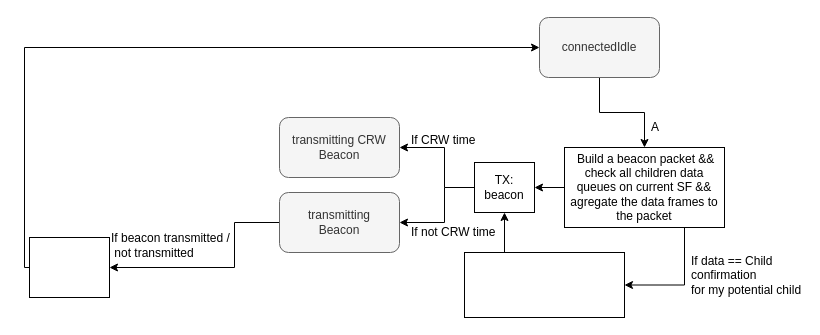
This 820x335 diagram has some shape labels left out. The centre of each missing label's shape, as x and y in pixels:
"Put the node into children's list && append info about its time slot" goes at pixel 544 285.
"QUEUE new beacon time" goes at pixel 69 267.
